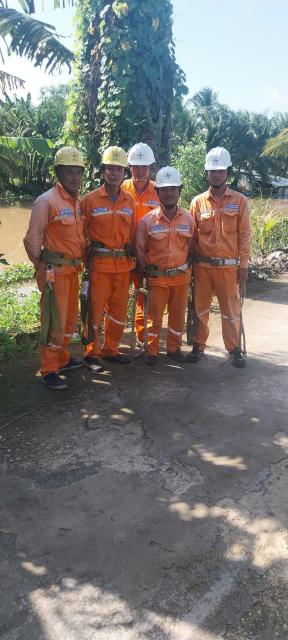harness: (189, 246, 244, 269), (87, 239, 138, 263), (142, 256, 195, 279), (38, 245, 83, 268)
helmet: (53, 143, 90, 174), (98, 144, 128, 171), (155, 164, 186, 190), (205, 144, 233, 172), (126, 142, 155, 166)
shoes: (52, 353, 84, 372), (100, 347, 132, 366), (39, 368, 68, 388), (83, 350, 104, 375), (185, 335, 205, 361), (227, 344, 248, 368), (166, 345, 187, 365), (140, 346, 158, 367)
